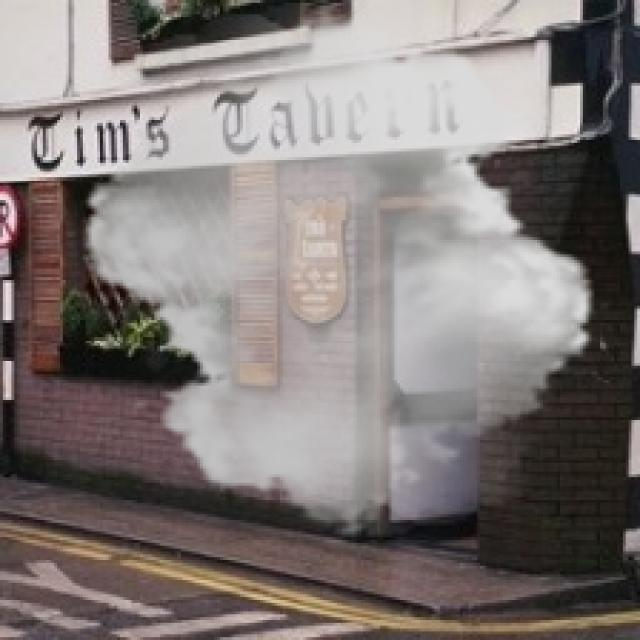Smoke: (62, 2, 614, 538)
